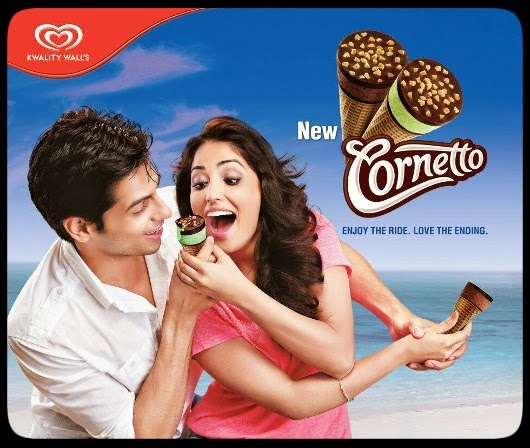Kwality_Walls: (29, 20, 87, 57)
